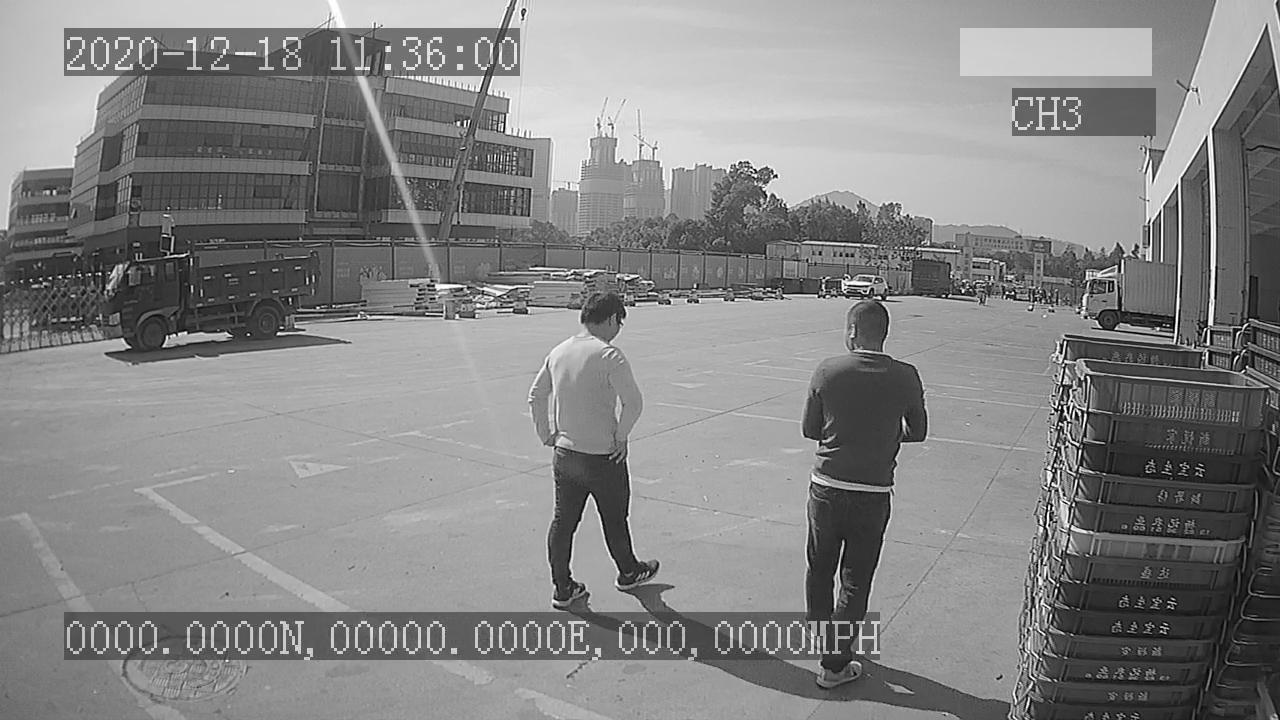person: (526, 293, 666, 606)
